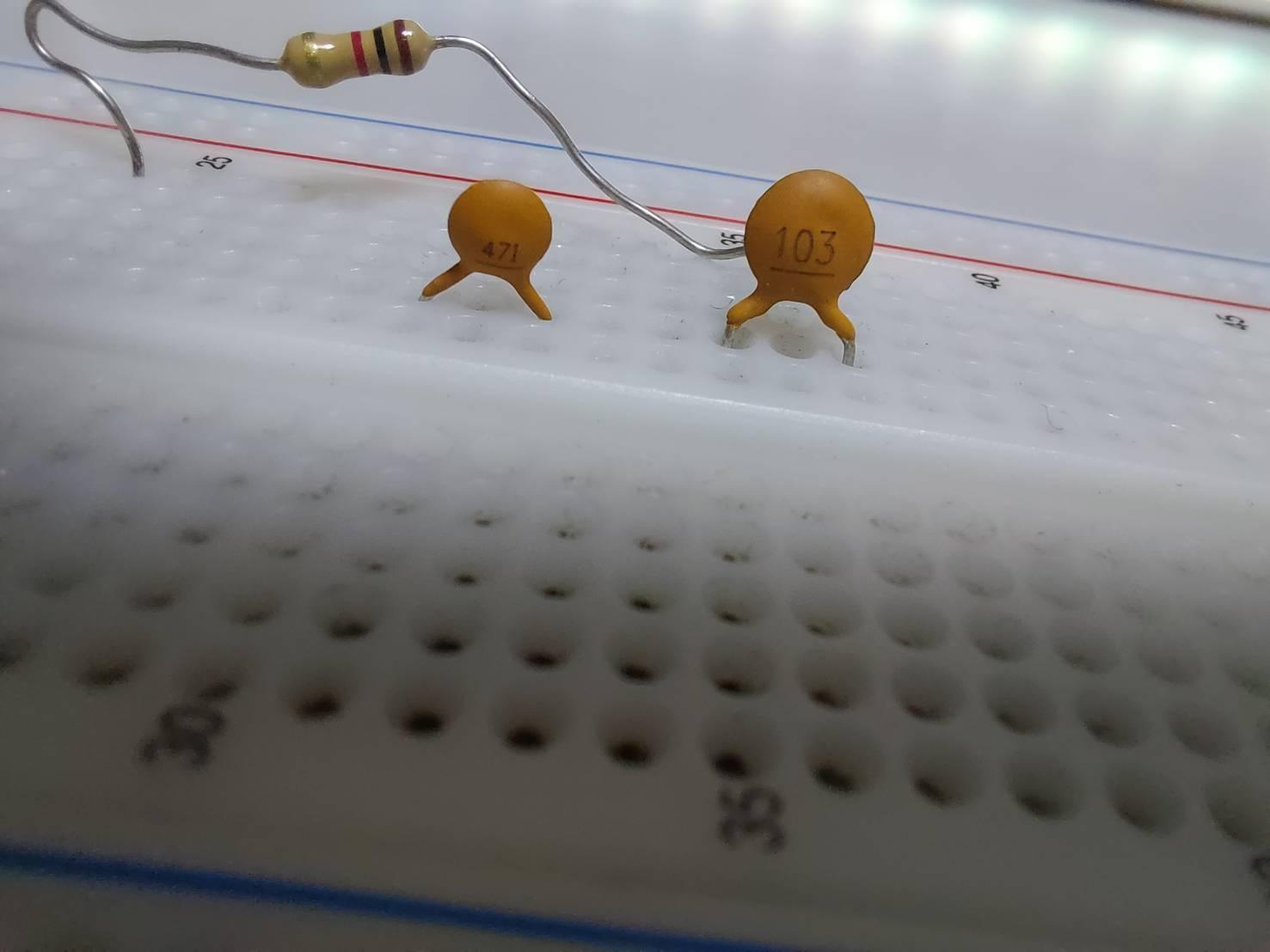resistor: (267, 19, 448, 90)
